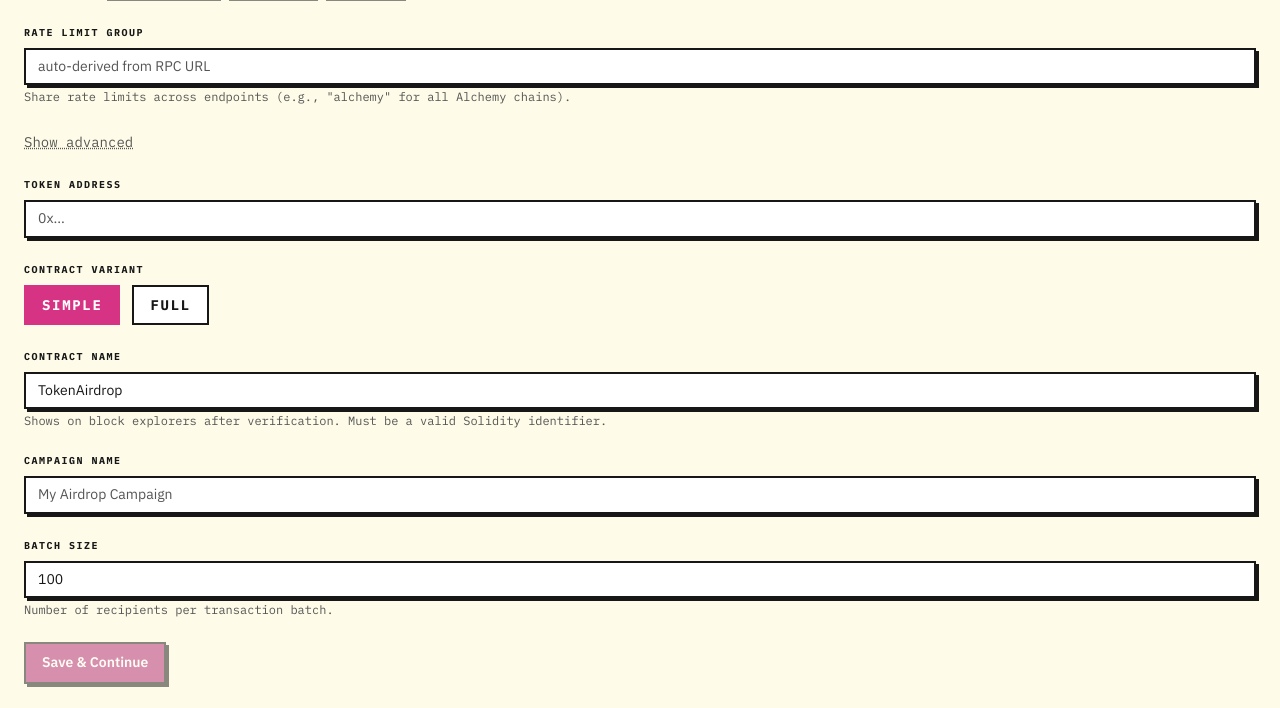
Test case: CampaignStep › clamps batch size to 1 when set to 0
(page scrolled)
Replace the text in the number field showing "100" with "0" at (640, 579), box top-left (24, 560), bottom-right (1256, 598)
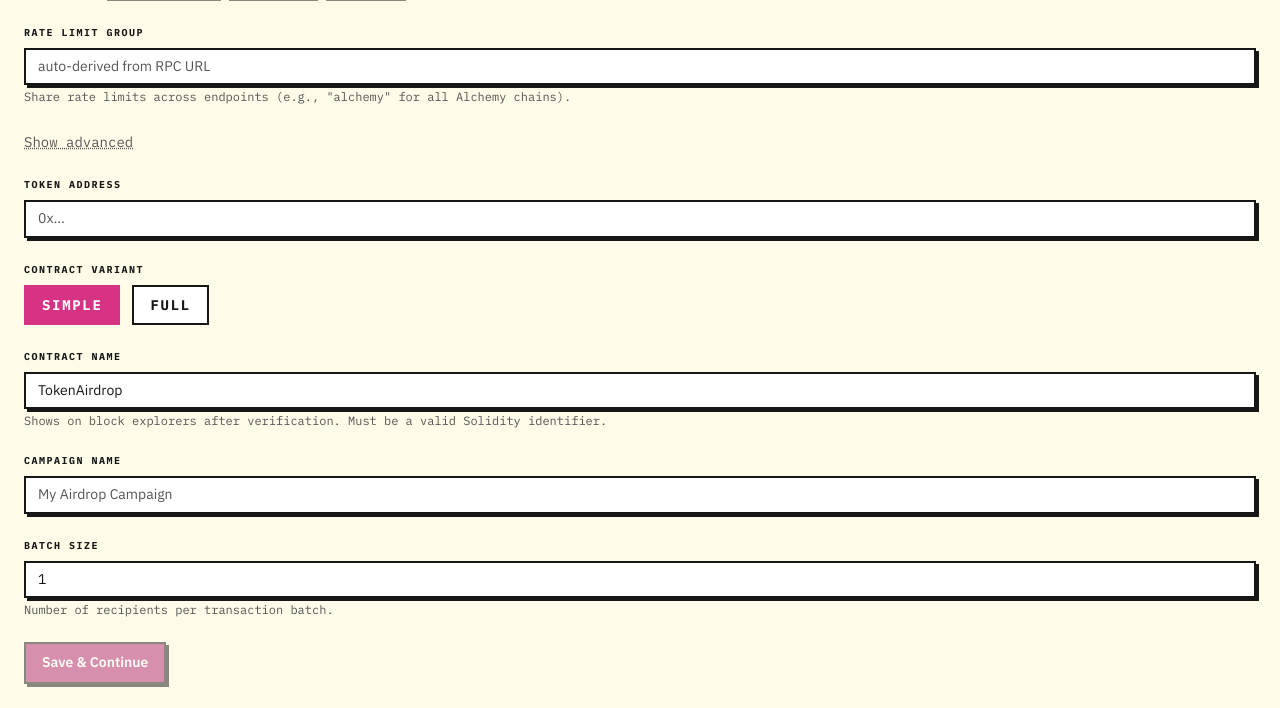
Check: the number field showing "100" holds "1", box top-left (24, 560), bottom-right (1256, 598)
